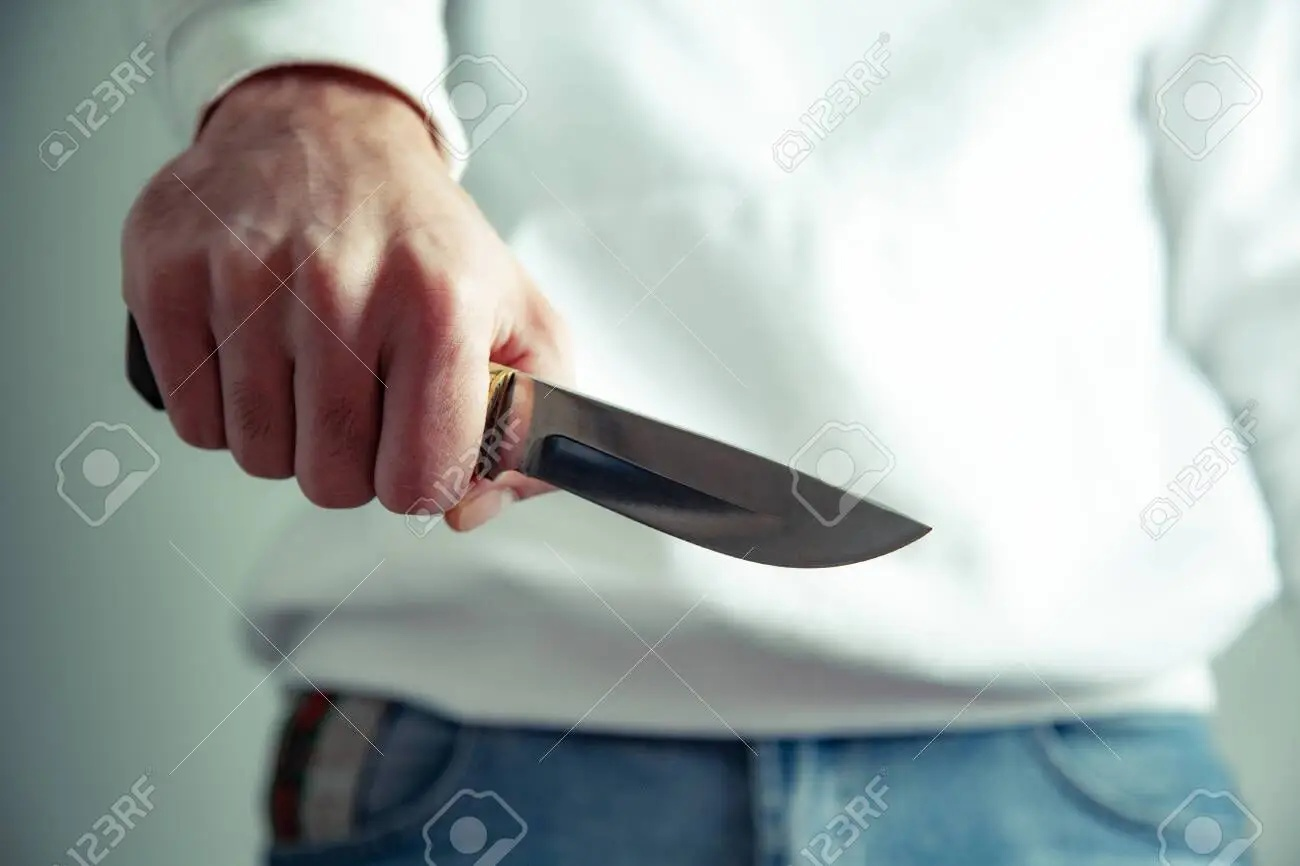knife: (119, 279, 936, 570)
